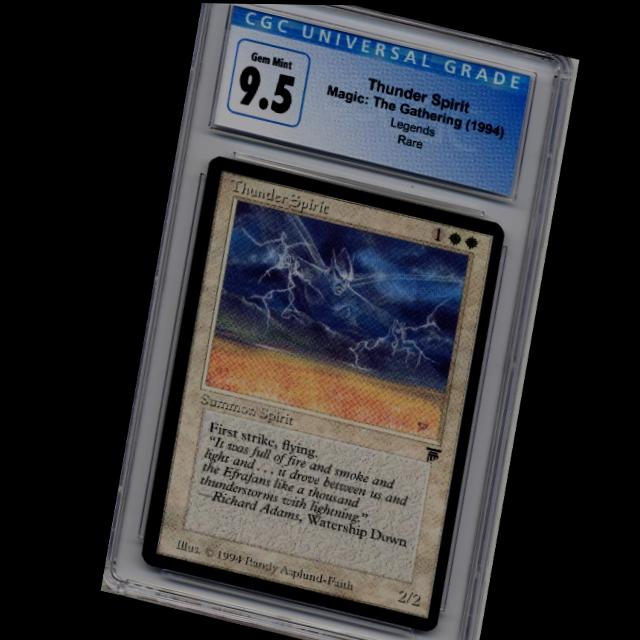card: (132, 152, 502, 632)
cgc_label_old: (210, 3, 529, 195)
cgc_slab: (91, 2, 574, 640)
